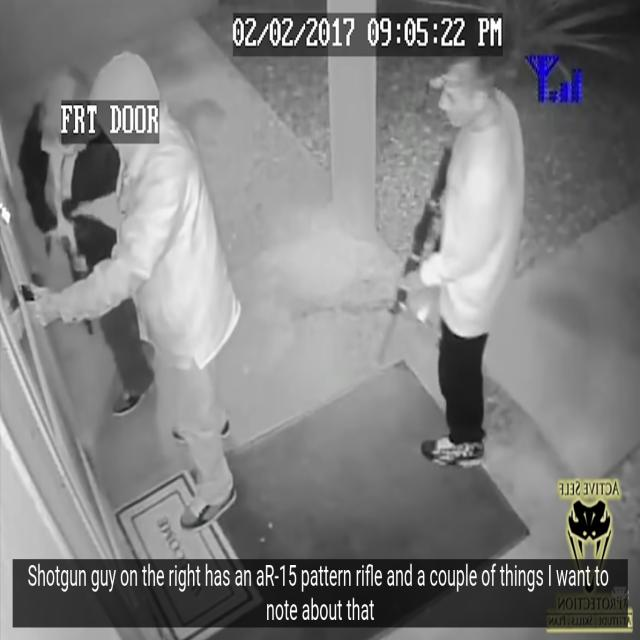FRifle: (379, 138, 454, 372)
